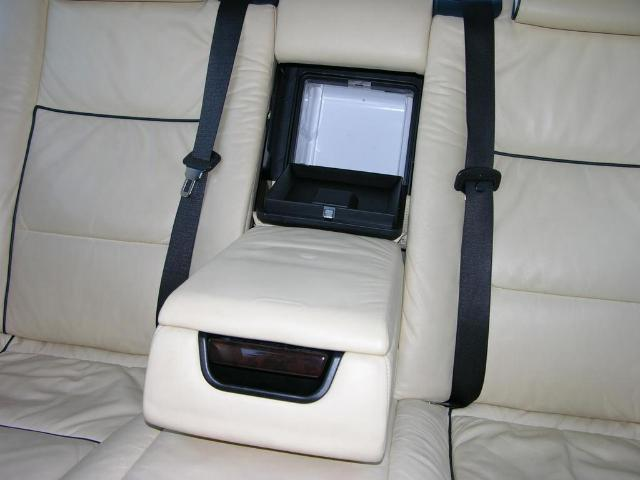Seatbelt: (154, 0, 250, 330), (448, 2, 502, 410)
